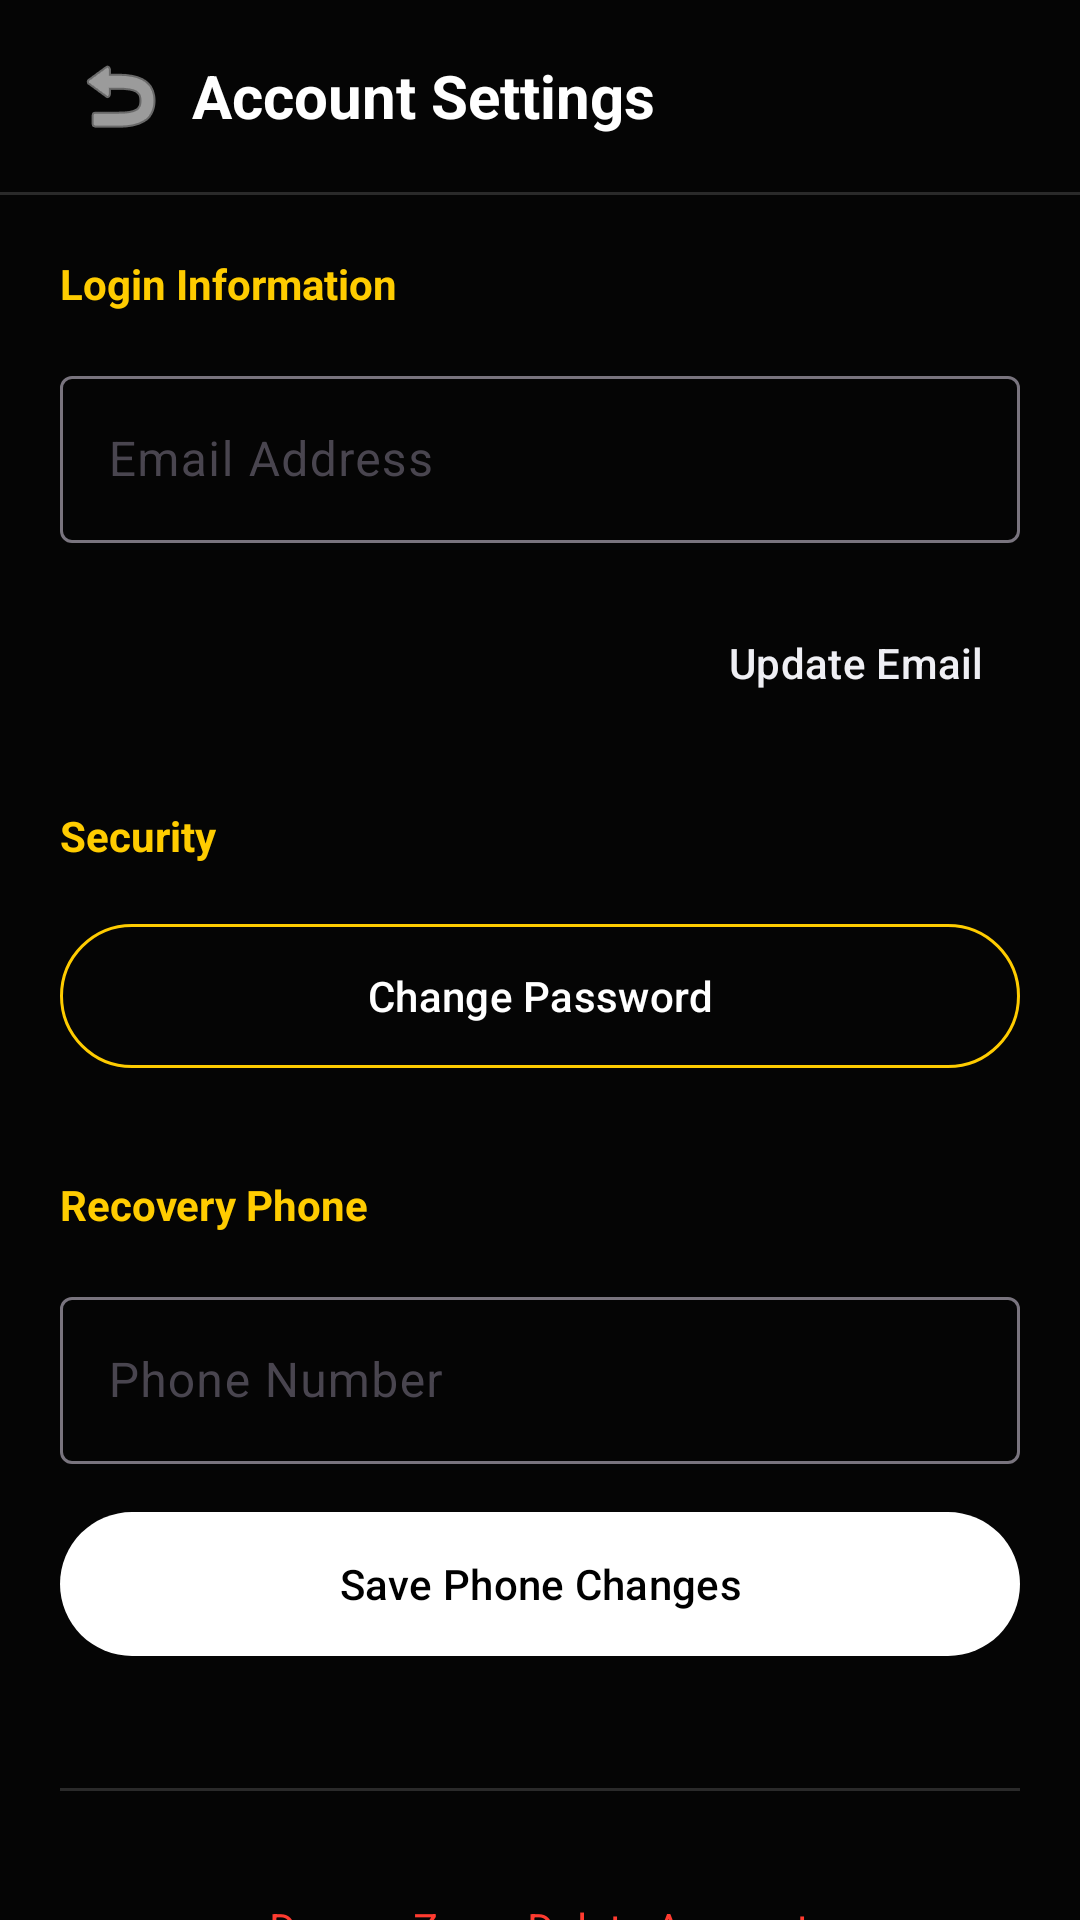

Where to tap for icons on this 1080px x 1920px app screen, as [x,y]:
revert: [121,96]
